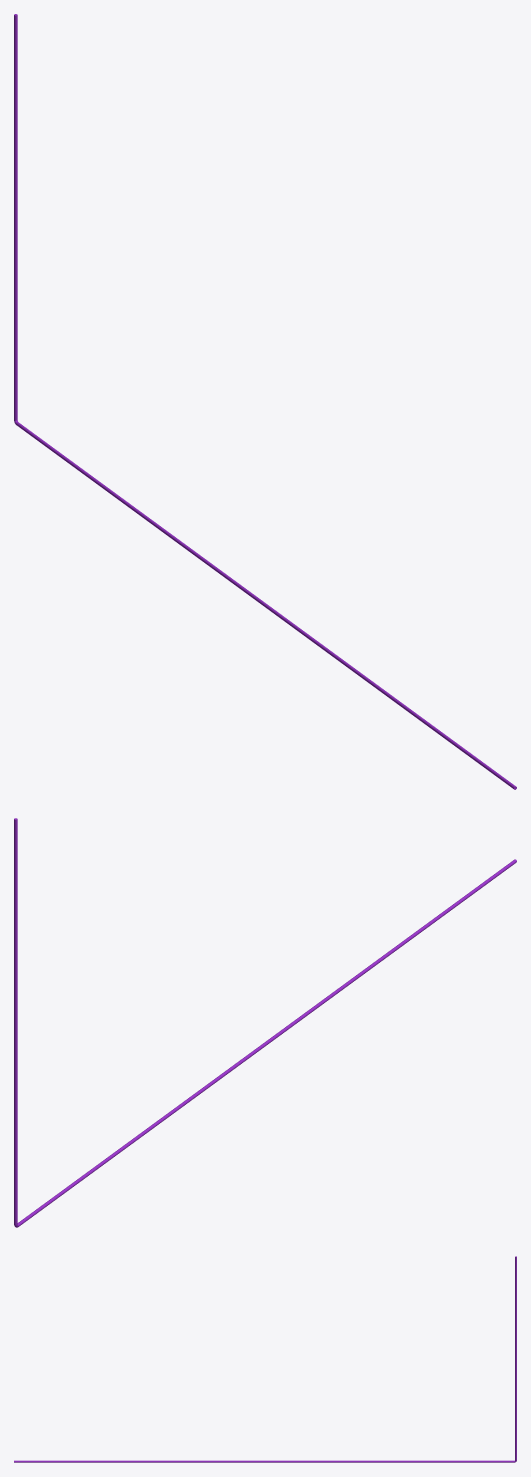
File: PipePS.dae
3 views of the same model, one above another, from view 1: azimuth 30°, elevation 25°; view 2: azimuth 150°, elevation 25°; view 3: azimuth 270°, elevation 25° (orthographic). The views are drawn at different scales.
Parts seen in each view (by area): view 1: group_0; view 2: group_0; view 3: group_0.
Part boxes in pixels (x1=…): group_0: x1=14, y1=14, x2=516, y2=789; group_0: x1=14, y1=818, x2=516, y2=1227; group_0: x1=14, y1=1256, x2=516, y2=1462.
Bounding box in the file's own units: 0.7874 × 216 × 97.27.
